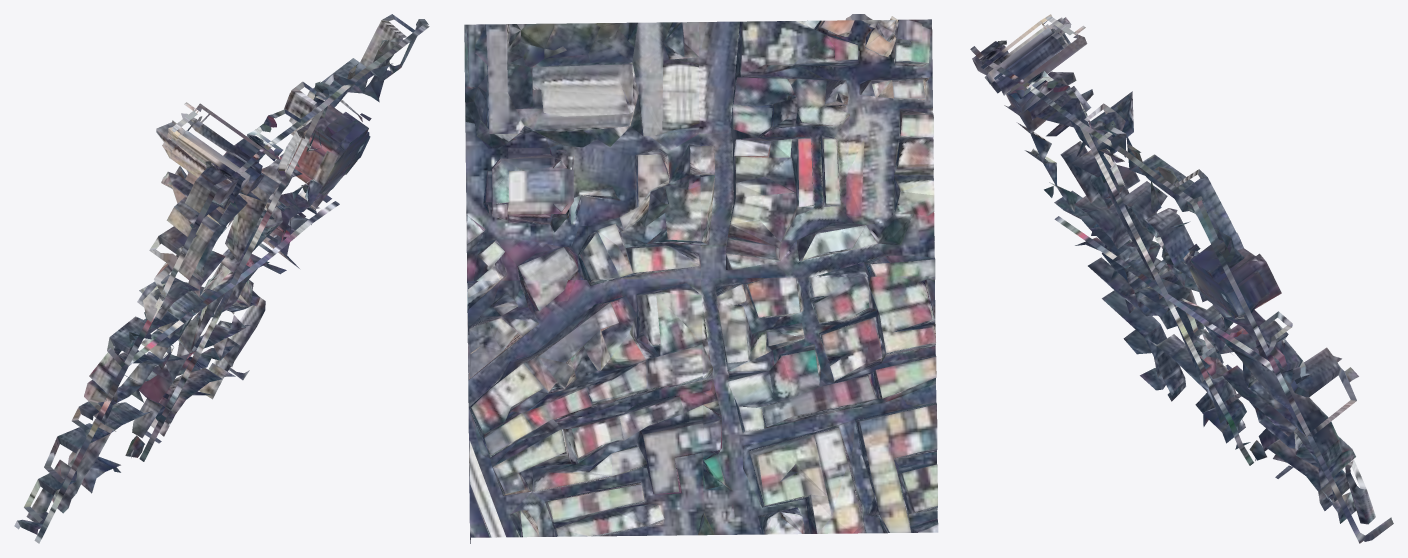
3 renders of one model, left to right at view 1: azimuth 30°, elevation 25°; view 2: azimuth 150°, elevation 25°; view 3: azimuth 270°, elevation 25°, orthographic. The views are drawn at different scales.
Size of the model in its own units: 314 by 301 by 276.
2 materials, 2 textured.
